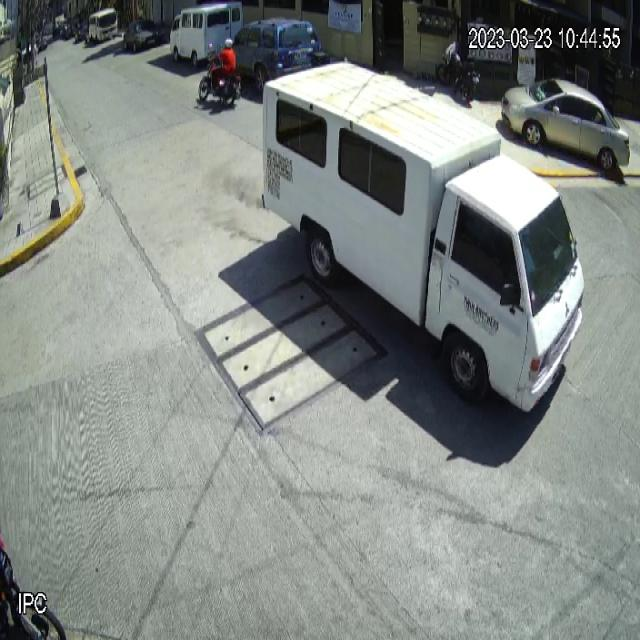Car: (500, 76, 631, 176)
Van: (262, 55, 588, 420)
